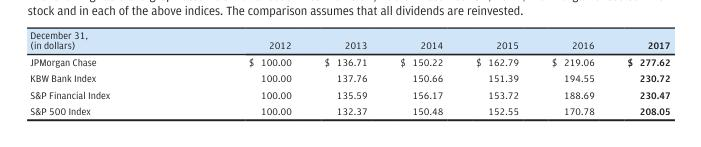table: (29, 29, 669, 116)
table column: (29, 29, 178, 116), (178, 29, 307, 116), (382, 29, 458, 116), (458, 29, 534, 116), (534, 29, 610, 116), (307, 29, 382, 116), (610, 29, 669, 116)
table column header: (29, 29, 669, 53)
table row: (29, 29, 669, 53), (29, 69, 669, 86), (29, 53, 669, 69), (29, 86, 669, 102), (29, 102, 669, 116)
